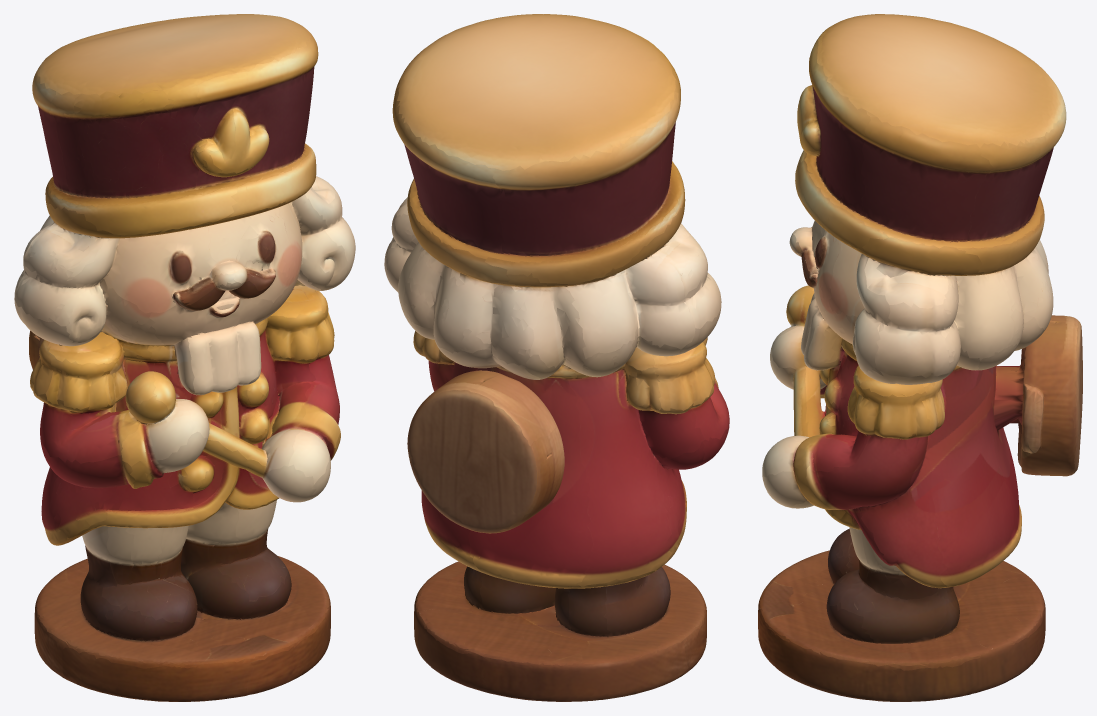
The picture shows the model from 3 angles, left to right: view 1: azimuth 30°, elevation 25°; view 2: azimuth 150°, elevation 25°; view 3: azimuth 270°, elevation 25°; orthographic projection.
Visible parts, largest first — view 1: geometry_0; view 2: geometry_0; view 3: geometry_0.
Part boxes in pixels (box(x1,y1,x2,y2)): geometry_0: box(14, 14, 355, 701); geometry_0: box(384, 14, 729, 701); geometry_0: box(758, 14, 1082, 701).
Size of the model in its own units: 0.1387 by 0.25 by 0.1233.
Materials: 2 (2 with a texture image).
